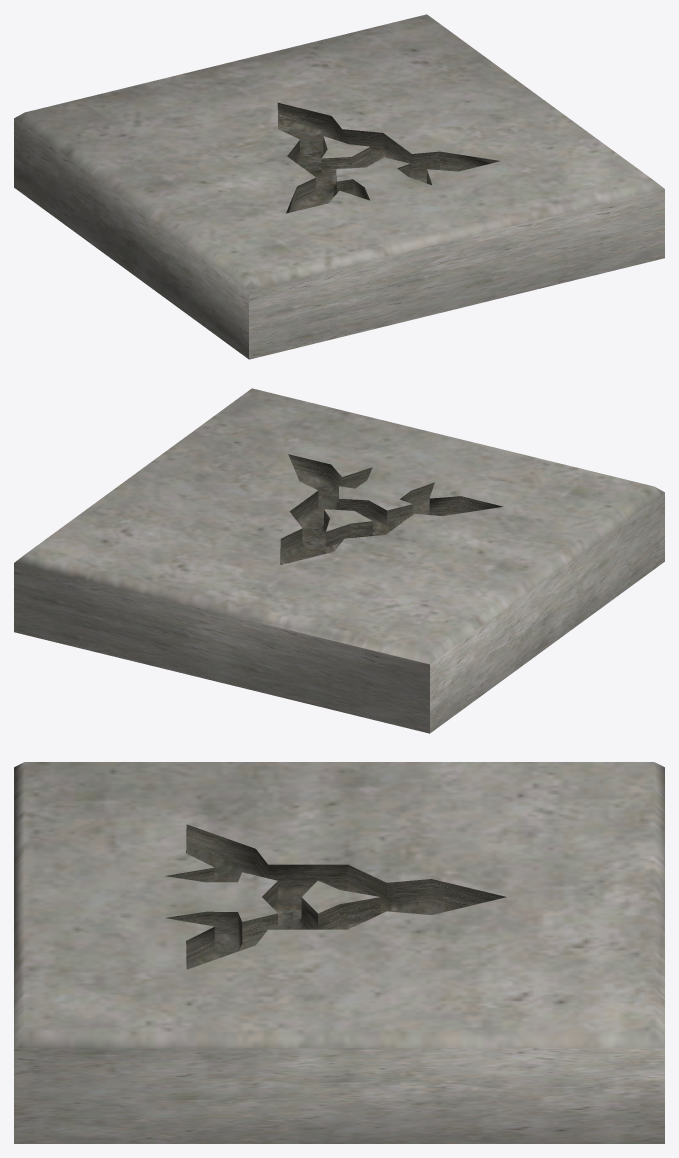
Rendered from DWARF_PALACE_THRONE_KEYPAD01.fbx.
3 renders of one model, top to bottom at view 1: azimuth 30°, elevation 25°; view 2: azimuth 150°, elevation 25°; view 3: azimuth 270°, elevation 25°, orthographic. The views are drawn at different scales.
Parts seen in each view (by area): view 1: DWARF_PALACE_THRONE_KEYPAD01; view 2: DWARF_PALACE_THRONE_KEYPAD01; view 3: DWARF_PALACE_THRONE_KEYPAD01.
Boxes of the visible parts, left/top/right/bottom form: DWARF_PALACE_THRONE_KEYPAD01: left=14, top=14, right=664, bottom=359; DWARF_PALACE_THRONE_KEYPAD01: left=14, top=388, right=664, bottom=733; DWARF_PALACE_THRONE_KEYPAD01: left=14, top=762, right=664, bottom=1143.
Size of the model in its own units: 14154 by 2481 by 13862.
Materials: 2 (2 with a texture image).
